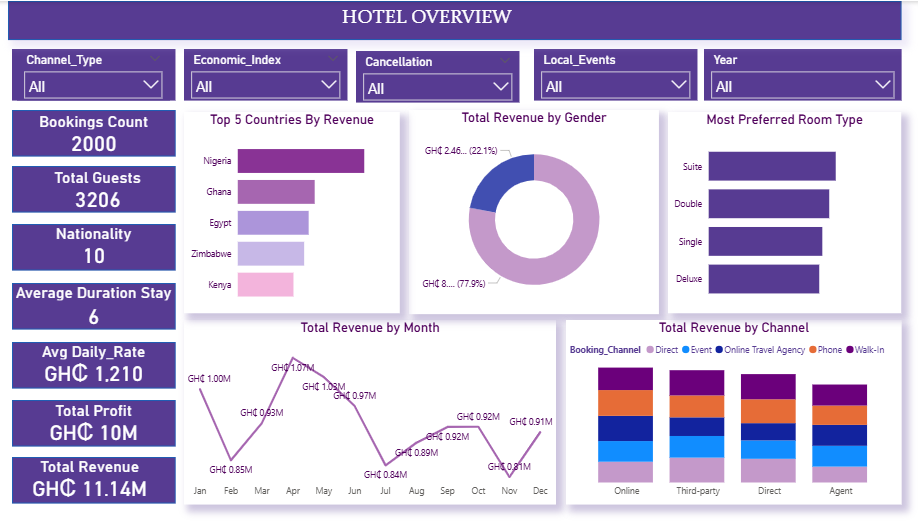

This screenshot's page, from the dashboard's own definition file:
{"tool":"powerbi","page":{"name":"Hotel Overview","canvas":[1280,720],"ordinal":0},"visuals":[{"type":"card","title":"Total Guests","fields":{"Values":["Measures Table (3).Total Guest"]},"box":[31.9,199.9,215,52.1],"z":0},{"type":"card","title":"Total Bookings","fields":{"Values":["Measures Table (3).Bookings Count"]},"box":[31.9,104.1,215,63.8],"z":1000},{"type":"shape","box":[21.8,149.5,225.1,63.8],"z":2000},{"type":"card","title":"Bookings Count","fields":{"Values":["Measures Table (3).Bookings Count"]},"box":[37,152.9,194.9,60.5],"z":3000},{"type":"shape","box":[21.8,226.8,225.1,63.8],"z":4000},{"type":"shape","box":[21.8,307.4,225.1,63.8],"z":5000},{"type":"shape","box":[21.8,388,225.1,63.8],"z":6000},{"type":"shape","box":[21.8,468.7,225.1,63.8],"z":7000},{"type":"shape","box":[21.8,549.3,225.1,63.8],"z":8000},{"type":"shape","box":[21.8,628.2,225.1,63.8],"z":9000},{"type":"card","title":"Total Guests","fields":{"Values":["Measures Table (3).Total Guest"]},"box":[42,230.1,194.9,60.5],"z":10000},{"type":"card","title":"Nationality","fields":{"Values":["Measures Table (3).Nationalities"]},"box":[37,307.4,194.9,60.5],"z":11000},{"type":"card","title":"Average Duration Stay","fields":{"Values":["Measures Table (3).Average Stay"]},"box":[21.8,388,225.1,63.8],"z":12000},{"type":"card","title":"Avg Daily_Rate","fields":{"Values":["Measures Table (3).Avg Daily_Rate"]},"box":[37,468.7,194.9,60.5],"z":13000},{"type":"card","title":"Total Profit","fields":{"Values":["Measures Table (3).Total Profit"]},"box":[37,551,194.9,60.5],"z":14000},{"type":"card","title":"Total Revenue","fields":{"Values":["Measures Table (3).Total Revenue"]},"box":[31.9,628.2,194.9,60.5],"z":15000},{"type":"lineChart","title":"Total Revenue by Month ","fields":{"Category":["Date_DIM.Month Name"],"Y":["Measures Table (3).Total Revenue"]},"box":[258.7,438.4,512.3,253.6],"z":16000},{"type":"donutChart","fields":{"Category":["Customer_DIM.Gender"],"Y":["Measures Table.Total Revenue"]},"box":[567.8,149.5,344.4,280.5],"z":17000},{"type":"columnChart","title":"Total Revenue by Channel","fields":{"Category":["Channel_DIM.Channel_Type"],"Series":["Channel_DIM.Booking_Channel"],"Y":["Measures Table.Total Revenue"]},"box":[784.5,438.4,461.9,253.6],"z":18000},{"type":"clusteredBarChart","title":"Top 5 Countries By Revenue ","fields":{"Category":["Customer_DIM.Nationality"],"Y":["Measures Table.Total Revenue"]},"box":[258.7,152.9,297.3,277.2],"z":19000},{"type":"clusteredBarChart","title":"Most Preferred Room Type","fields":{"Category":["Booking_Table.Room_Type"],"Y":["Measures Table.Total Revenue"]},"box":[925.6,152.9,320.8,277.2],"z":20000},{"type":"slicer","fields":{"Values":["Channel_DIM.Channel_Type"]},"box":[21.8,65.5,225.1,70.6],"z":21000},{"type":"slicer","fields":{"Values":["Channel_DIM.Channel_Type"]},"box":[28.6,65.5,210,70.6],"z":22000},{"type":"slicer","fields":{"Values":["Booking_Table.Economic_Index"]},"box":[258.7,65.5,225.1,70.6],"z":23000},{"type":"slicer","fields":{"Values":["Booking_Table.Cancellation"]},"box":[495.5,68.9,225.1,70.6],"z":24000},{"type":"slicer","fields":{"Values":["Booking_Table.Local_Events"]},"box":[740.8,65.5,225.1,70.6],"z":25000},{"type":"slicer","fields":{"Values":["Date_DIM.Year"]},"box":[974.3,65.5,272.1,70.6],"z":26000},{"type":"shape","box":[16.8,0,1229.6,53.8],"z":27000},{"type":"textbox","box":[100.5,0,985.5,53.7],"z":28000}]}

Visuals, with their boxes in screenshot pixels (x1, y1, x2, y2), scaled from the page's 1280x720 canvas onto the 918x521 screenshot:
"Total Guests" card: {"left": 23, "top": 145, "right": 177, "bottom": 182}
"Total Bookings" card: {"left": 23, "top": 75, "right": 177, "bottom": 121}
shape: {"left": 16, "top": 108, "right": 177, "bottom": 154}
"Bookings Count" card: {"left": 27, "top": 111, "right": 166, "bottom": 154}
shape: {"left": 16, "top": 164, "right": 177, "bottom": 210}
shape: {"left": 16, "top": 222, "right": 177, "bottom": 269}
shape: {"left": 16, "top": 281, "right": 177, "bottom": 327}
shape: {"left": 16, "top": 339, "right": 177, "bottom": 385}
shape: {"left": 16, "top": 397, "right": 177, "bottom": 444}
shape: {"left": 16, "top": 455, "right": 177, "bottom": 501}
"Total Guests" card: {"left": 30, "top": 167, "right": 170, "bottom": 210}
"Nationality" card: {"left": 27, "top": 222, "right": 166, "bottom": 266}
"Average Duration Stay" card: {"left": 16, "top": 281, "right": 177, "bottom": 327}
"Avg Daily_Rate" card: {"left": 27, "top": 339, "right": 166, "bottom": 383}
"Total Profit" card: {"left": 27, "top": 399, "right": 166, "bottom": 442}
"Total Revenue" card: {"left": 23, "top": 455, "right": 163, "bottom": 498}
"Total Revenue by Month " lineChart: {"left": 186, "top": 317, "right": 553, "bottom": 501}
donutChart - Customer_DIM.Gender x Measures Table.Total Revenue: {"left": 407, "top": 108, "right": 654, "bottom": 311}
"Total Revenue by Channel" columnChart: {"left": 563, "top": 317, "right": 894, "bottom": 501}
"Top 5 Countries By Revenue " clusteredBarChart: {"left": 186, "top": 111, "right": 399, "bottom": 311}
"Most Preferred Room Type" clusteredBarChart: {"left": 664, "top": 111, "right": 894, "bottom": 311}
slicer - Channel_DIM.Channel_Type: {"left": 16, "top": 47, "right": 177, "bottom": 98}
slicer - Channel_DIM.Channel_Type: {"left": 21, "top": 47, "right": 171, "bottom": 98}
slicer - Booking_Table.Economic_Index: {"left": 186, "top": 47, "right": 347, "bottom": 98}
slicer - Booking_Table.Cancellation: {"left": 355, "top": 50, "right": 517, "bottom": 101}
slicer - Booking_Table.Local_Events: {"left": 531, "top": 47, "right": 693, "bottom": 98}
slicer - Date_DIM.Year: {"left": 699, "top": 47, "right": 894, "bottom": 98}
shape: {"left": 12, "top": 0, "right": 894, "bottom": 39}
textbox: {"left": 72, "top": 0, "right": 779, "bottom": 39}
